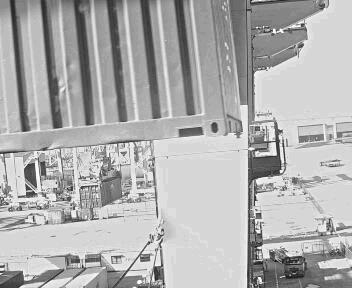twist_lock_1: (81, 176, 181, 242)
